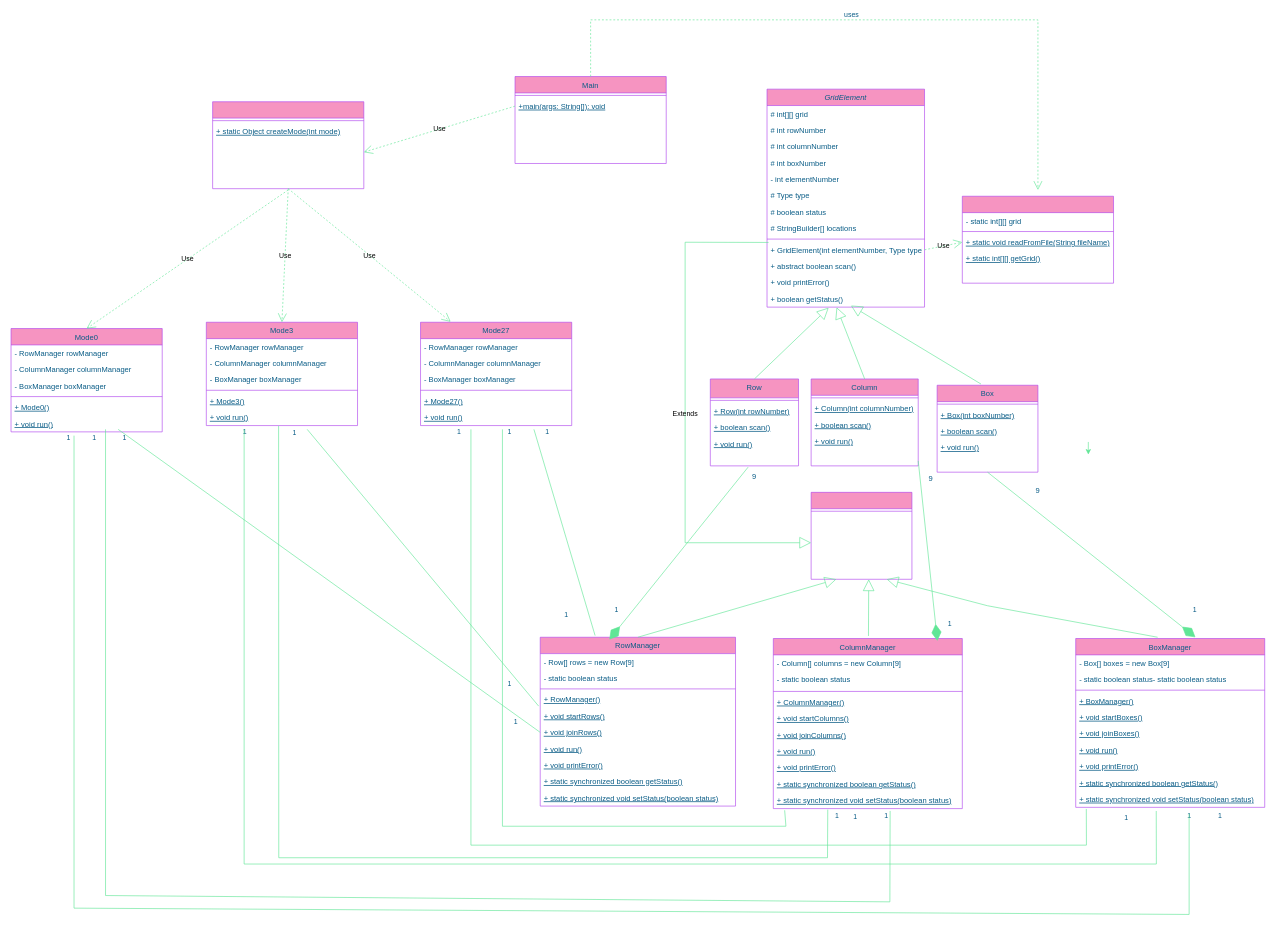
Some shapes in this 1276 by 926 pixel diagram are drawn without their labels. Each missing label, with the box of its shape:
Board: (962, 196, 1114, 283)
Mode(factory): (212, 101, 364, 189)
Thread: (810, 492, 912, 579)
